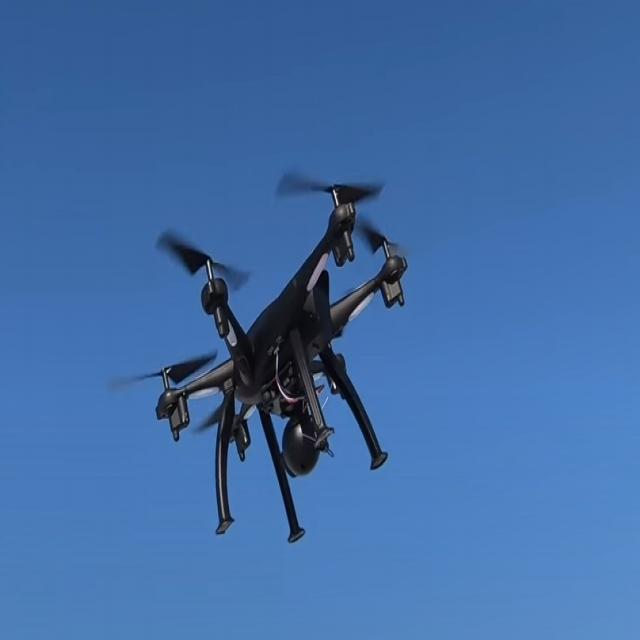drone: (100, 155, 440, 550)
